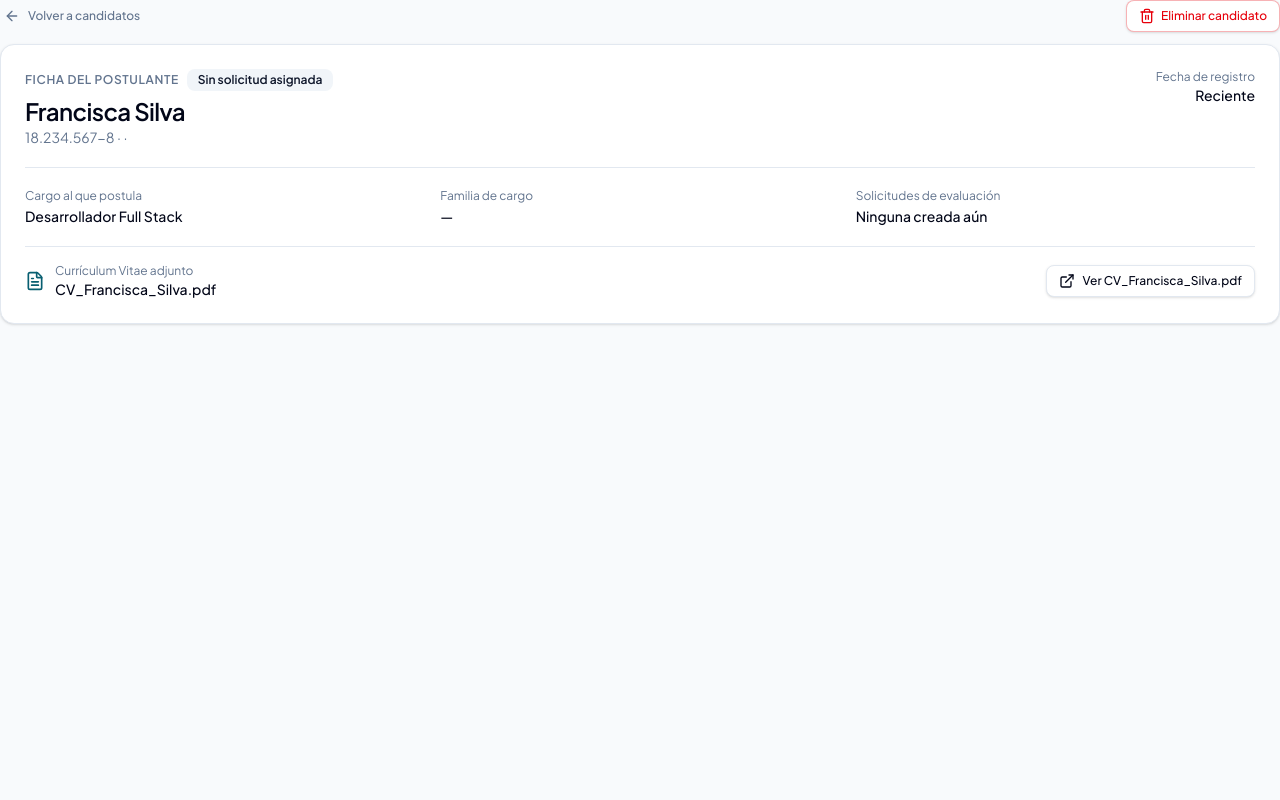
Test: DetalleCandidatoPage.jsx - Ficha del Candidato y Pre-análisis IA › abre modal de confirmación y elimina al candidato sin usar window.confirm
The image size is (1280, 800).
# Botón eliminar en cabecera
Step 1. Click the button "Eliminar candidato" → x=1203, y=16, box [1126,0,1279,32]
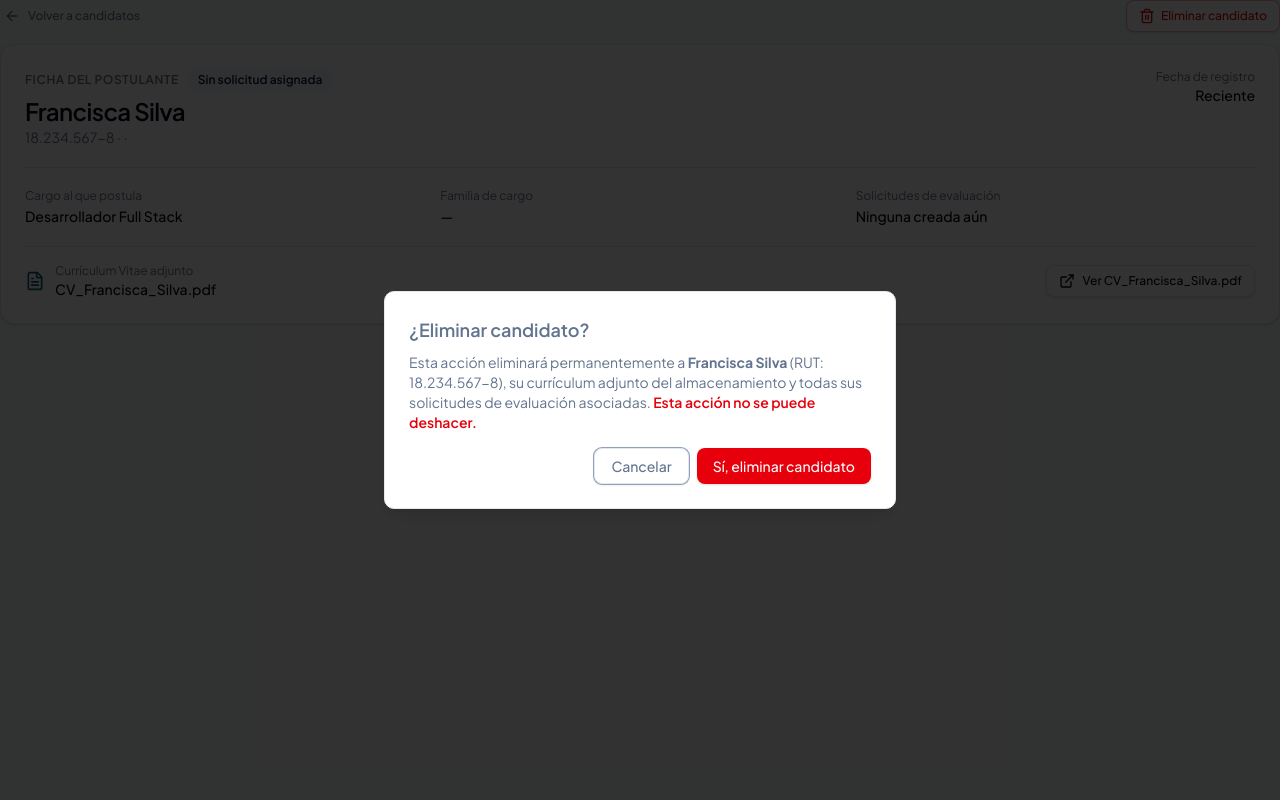
Result: the heading "¿Eliminar candidato?" is shown at [409,318,590,341]
Result: the dialog shows "Francisca Silva" at [688,353,788,371]
Result: the dialog shows "18.234.567-8" at [409,353,824,391]
# Confirmar en el modal
Step 2. Click the button "Sí, eliminar candidato" → x=784, y=466, box [697,448,871,484]
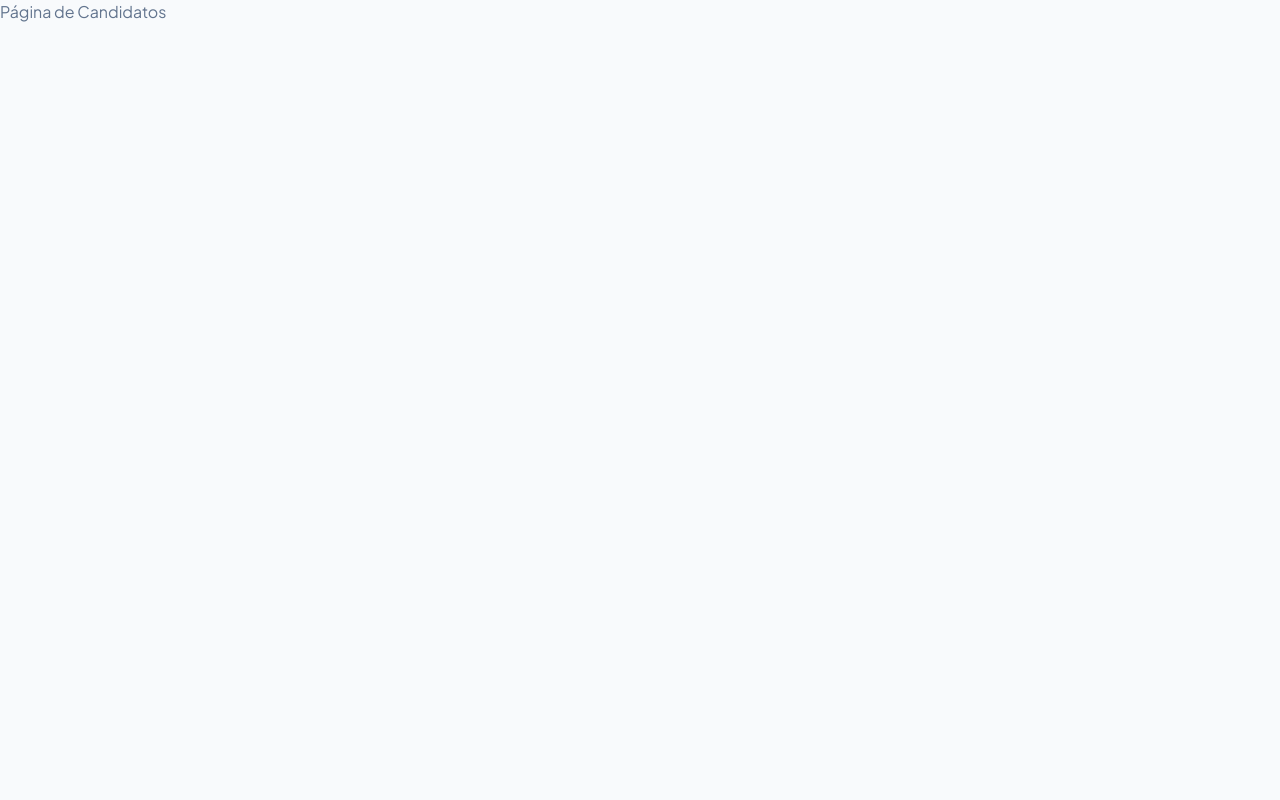
Result: the text "Página de Candidatos" is shown at [0,1,166,22]
